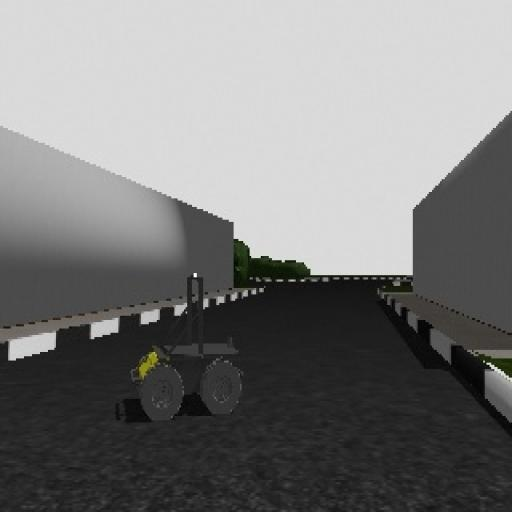huskya200: (117, 262, 254, 438)
